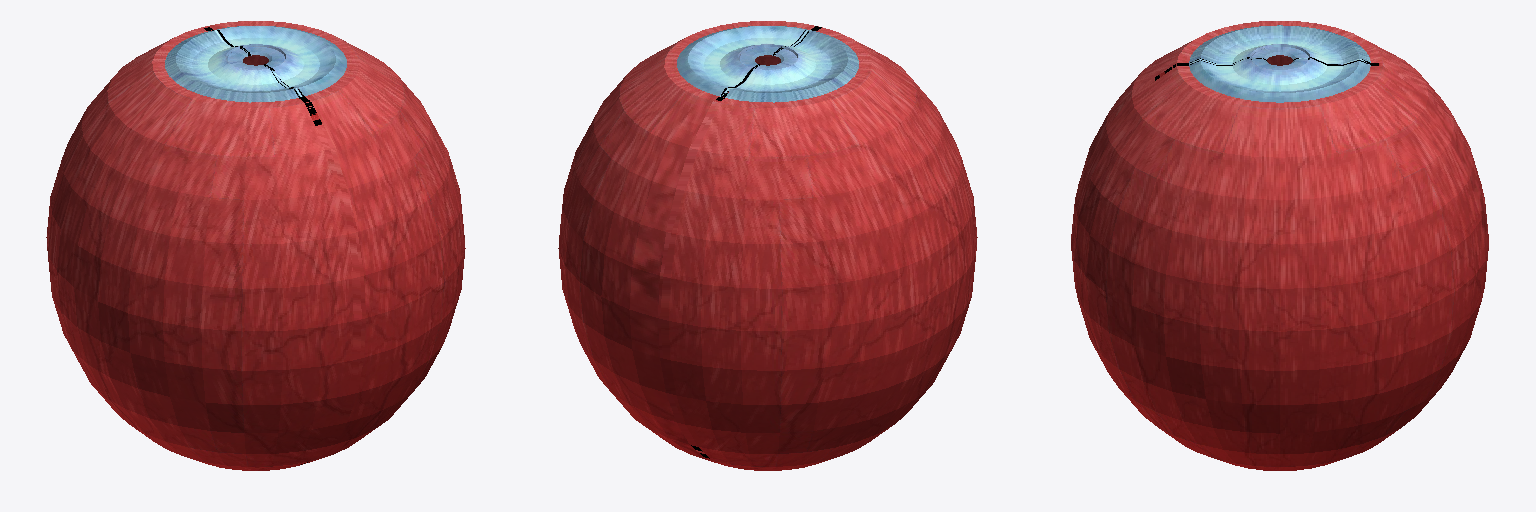
3 renders of one model, left to right at view 1: azimuth 30°, elevation 25°; view 2: azimuth 150°, elevation 25°; view 3: azimuth 270°, elevation 25°, orthographic.
Parts seen in each view (by area): view 1: pasted__eye_section_ChloroidRight_group.002; view 2: pasted__eye_section_ChloroidRight_group.002; view 3: pasted__eye_section_ChloroidRight_group.002.
Boxes of the visible parts, box(x1,y1,x2,y2) form: pasted__eye_section_ChloroidRight_group.002: box(46, 21, 465, 470); pasted__eye_section_ChloroidRight_group.002: box(558, 21, 977, 470); pasted__eye_section_ChloroidRight_group.002: box(1071, 21, 1488, 470).
Size of the model in its own units: 2.27 by 2.37 by 2.26.
Materials: 2 (2 with a texture image).